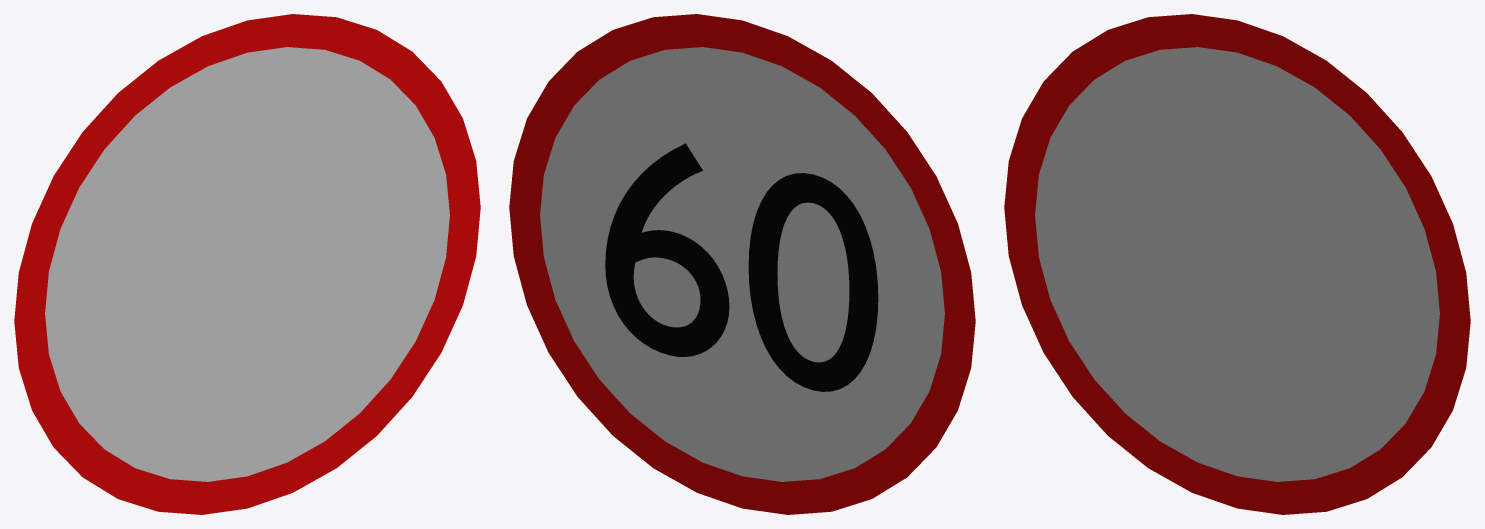
The picture shows the model from 3 angles, left to right: view 1: azimuth 30°, elevation 25°; view 2: azimuth 150°, elevation 25°; view 3: azimuth 330°, elevation 25°; orthographic projection.
Visible parts, largest first — view 1: Circle; view 2: Circle; view 3: Circle.
Boxes of the visible parts, x1,y1,x2,y2 form: Circle: [14, 14, 480, 514]; Circle: [509, 14, 975, 514]; Circle: [1004, 14, 1470, 514].
Size of the model in its own units: 2 by 2 by 0.00518.
